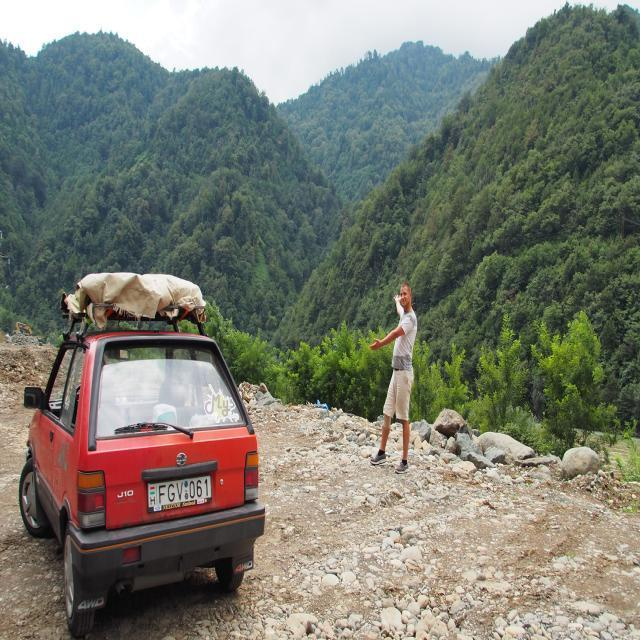licence: (146, 474, 212, 507)
